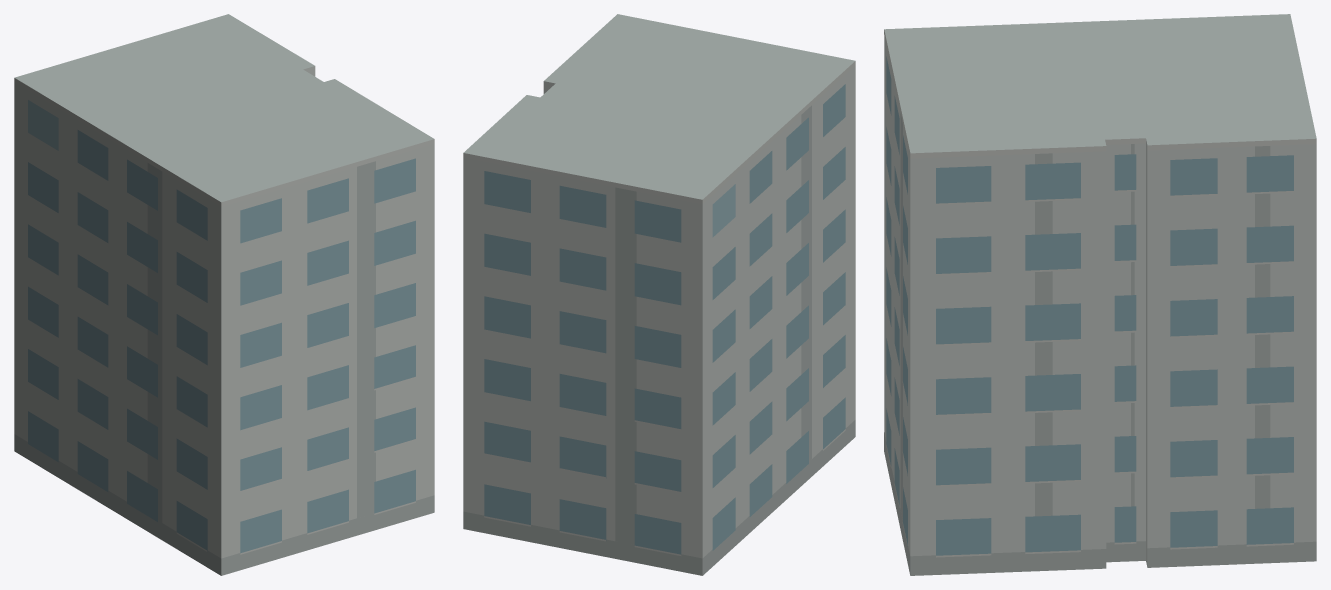
Rendered from survey-upis-32962316.glb.
The picture shows the model from 3 angles, left to right: view 1: azimuth 30°, elevation 25°; view 2: azimuth 150°, elevation 25°; view 3: azimuth 270°, elevation 25°; orthographic projection. The views are drawn at different scales.
Parts seen in each view (by area): view 1: survey-upis-32962316.tmp; view 2: survey-upis-32962316.tmp; view 3: survey-upis-32962316.tmp.
Part boxes in pixels (x1,y1,x2,y2): survey-upis-32962316.tmp: (14,14,434,575); survey-upis-32962316.tmp: (463,14,855,575); survey-upis-32962316.tmp: (884,14,1316,575).
Bounding box in the file's own units: 13.69 × 19.35 × 17.96.
